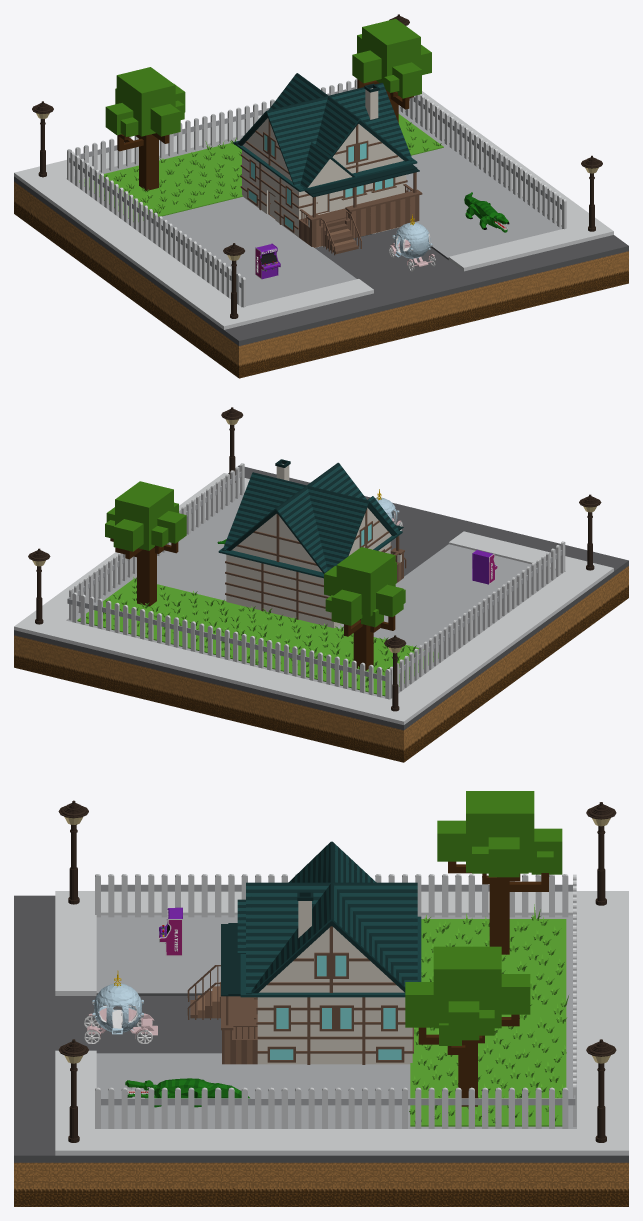
3 views of the same model, one above another, from view 1: azimuth 30°, elevation 25°; view 2: azimuth 150°, elevation 25°; view 3: azimuth 270°, elevation 25° (orthographic). The views are drawn at different scales.
Parts seen in each view (by area): view 1: Cube.004, Cube.793, VEHICLES_FANTASY_CARRIAGE, ANIMAL_COCODRILO, OBJRANDOM_ARCADE; view 2: Cube.004, Cube.793, OBJRANDOM_ARCADE; view 3: Cube.004, Cube.793, VEHICLES_FANTASY_CARRIAGE, ANIMAL_COCODRILO, OBJRANDOM_ARCADE.
Part boxes in pixels (x1,y1,x2,y2): Cube.004: (14, 14, 628, 378); Cube.793: (233, 73, 422, 255); VEHICLES_FANTASY_CARRIAGE: (389, 214, 435, 271); ANIMAL_COCODRILO: (464, 192, 509, 232); OBJRANDOM_ARCADE: (255, 243, 280, 279); Cube.004: (14, 407, 628, 762); Cube.793: (218, 459, 406, 627); OBJRANDOM_ARCADE: (472, 549, 497, 584); Cube.004: (14, 791, 628, 1206); Cube.793: (187, 841, 421, 1064); VEHICLES_FANTASY_CARRIAGE: (84, 970, 157, 1043); ANIMAL_COCODRILO: (125, 1078, 249, 1107); OBJRANDOM_ARCADE: (159, 907, 182, 956).
Size of the model in its own units: 4000 by 1600 by 4000.
32 materials, 4 textured.
